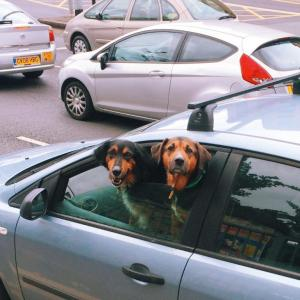Vehicle-registration-plate: (14, 57, 41, 67)
